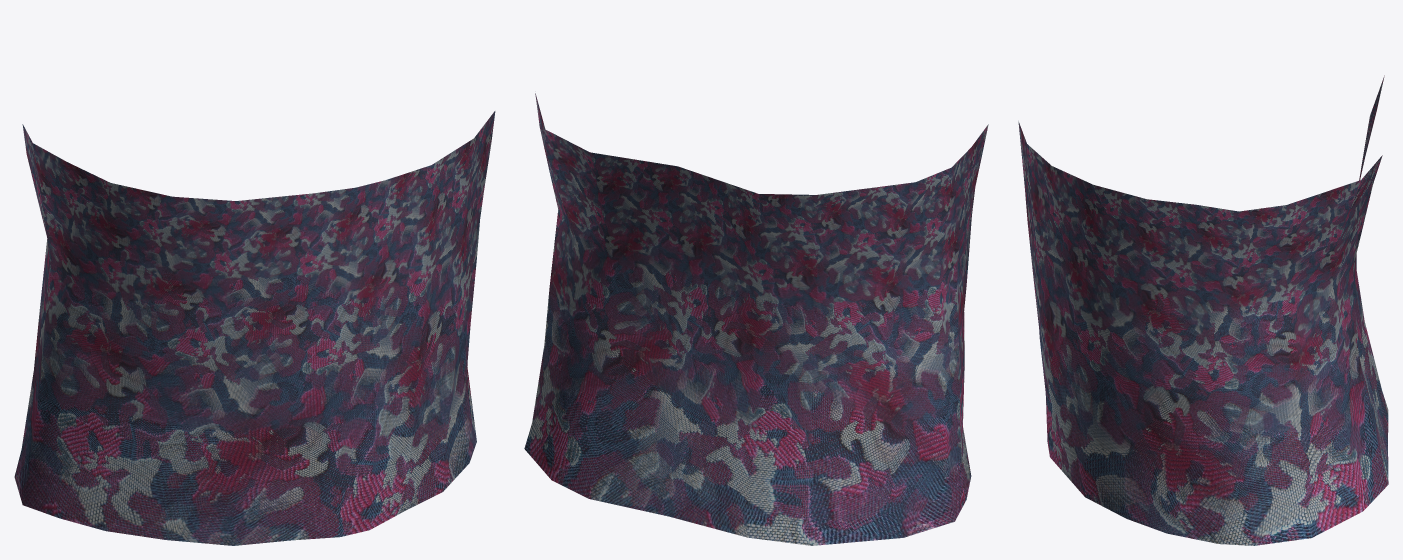
File: Saia.gltf
3 renders of one model, left to right at view 1: azimuth 30°, elevation 25°; view 2: azimuth 150°, elevation 25°; view 3: azimuth 270°, elevation 25°, orthographic. The views are drawn at different scales.
Parts seen in each view (by area): view 1: Saia; view 2: Saia; view 3: Saia.
Boxes of the visible parts, x1,y1,x2,y2 form: Saia: (14,111,495,545); Saia: (524,93,988,545); Saia: (1018,75,1388,545).
Size of the model in its own units: 27.98 by 22.45 by 22.18.
1 material, 1 textured.
